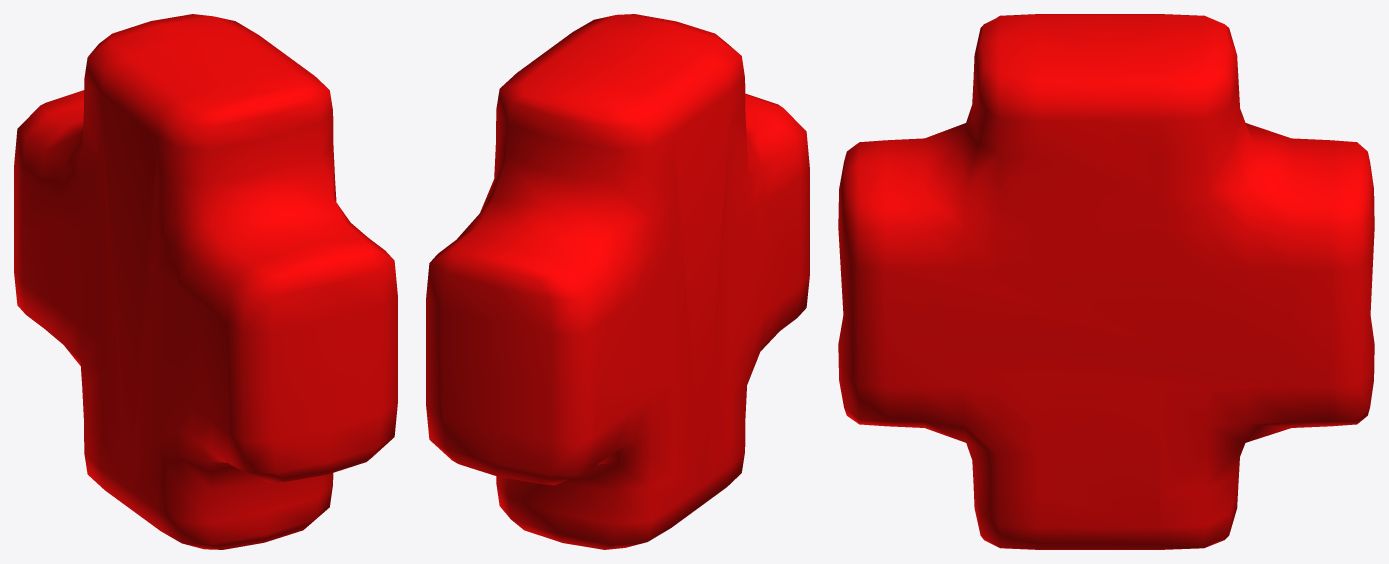
The model's file is Power_Add_Effect.fbx.
3 renders of one model, left to right at view 1: azimuth 30°, elevation 25°; view 2: azimuth 150°, elevation 25°; view 3: azimuth 270°, elevation 25°, orthographic. The views are drawn at different scales.
Parts seen in each view (by area): view 1: 平面; view 2: 平面; view 3: 平面.
Boxes of the visible parts, <box> form: 平面: <box>14,14,397,549</box>; 平面: <box>426,14,809,549</box>; 平面: <box>838,14,1374,549</box>.
Bounding box in the file's own units: 150 × 398 × 398.
1 material, 1 textured.
